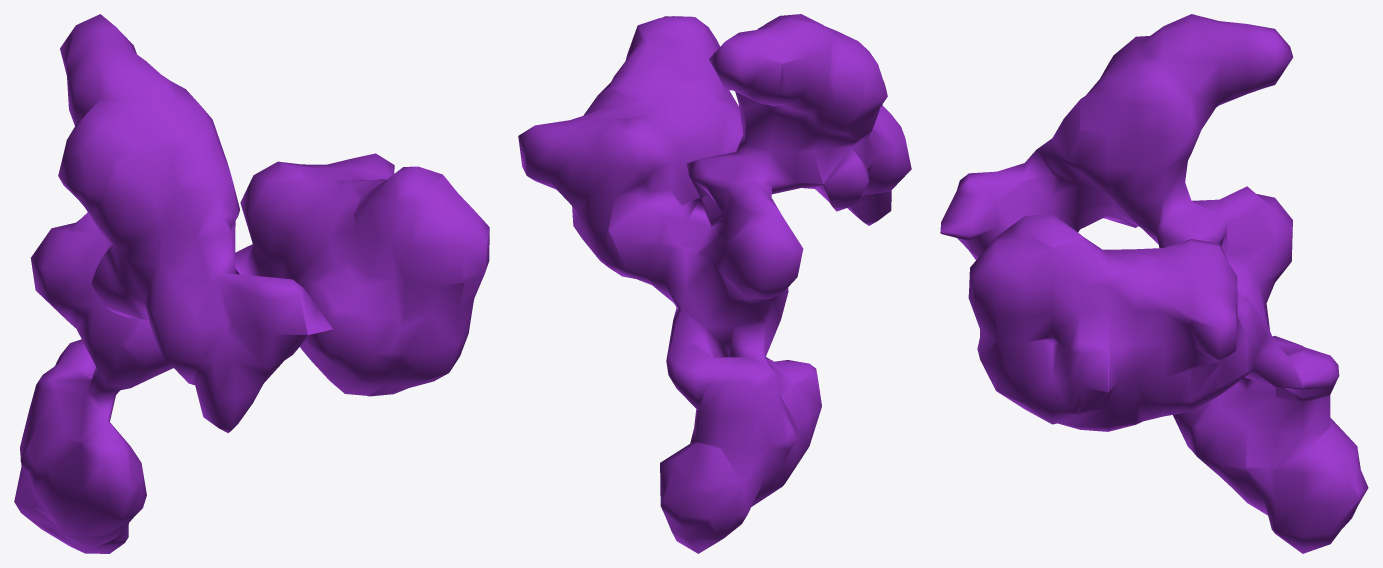
The model's file is Vesicle_56AAligned8.fbx.
3 renders of one model, left to right at view 1: azimuth 30°, elevation 25°; view 2: azimuth 150°, elevation 25°; view 3: azimuth 270°, elevation 25°, orthographic. The views are drawn at different scales.
Parts seen in each view (by area): view 1: vesicle_MeshVes56Mesh; view 2: vesicle_MeshVes56Mesh; view 3: vesicle_MeshVes56Mesh.
Boxes of the visible parts, x1,y1,x2,y2 form: vesicle_MeshVes56Mesh: [14, 14, 489, 553]; vesicle_MeshVes56Mesh: [518, 14, 911, 553]; vesicle_MeshVes56Mesh: [940, 14, 1368, 553].
Bounding box in the file's own units: 90.34 × 128 × 97.65.
